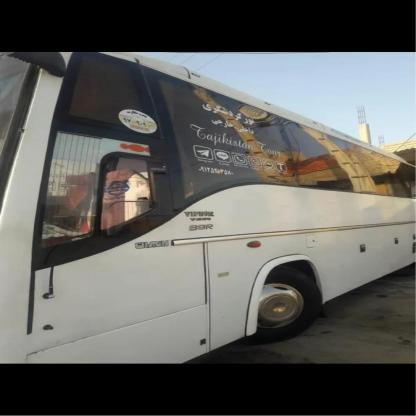Bus: (0, 52, 416, 363)
